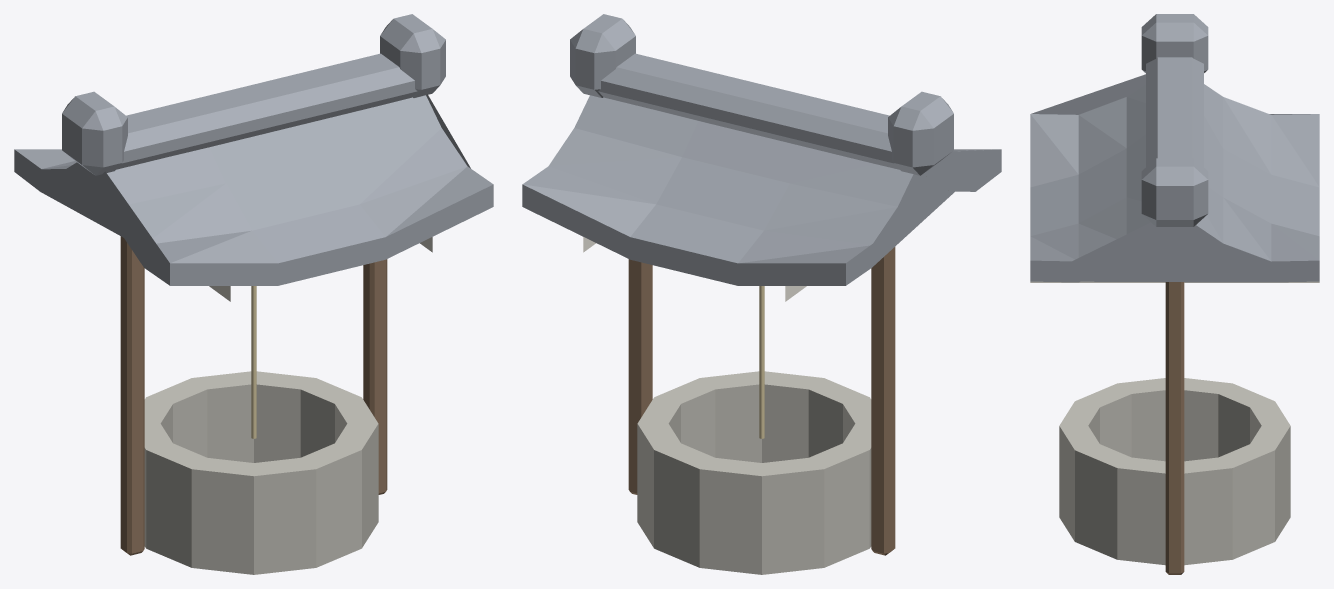
File: town-well.glb
3 views of the same model, side by side, from view 1: azimuth 30°, elevation 25°; view 2: azimuth 150°, elevation 25°; view 3: azimuth 270°, elevation 25° (orthographic). The views are drawn at different scales.
Parts seen in each view (by area): view 1: town-well; view 2: town-well; view 3: town-well.
Boxes of the visible parts, x1=… form: town-well: x1=14, y1=14, x2=493, y2=574; town-well: x1=522, y1=14, x2=1001, y2=574; town-well: x1=1030, y1=14, x2=1319, y2=574.
Bounding box in the file's own units: 2.7 × 3.26 × 2.
